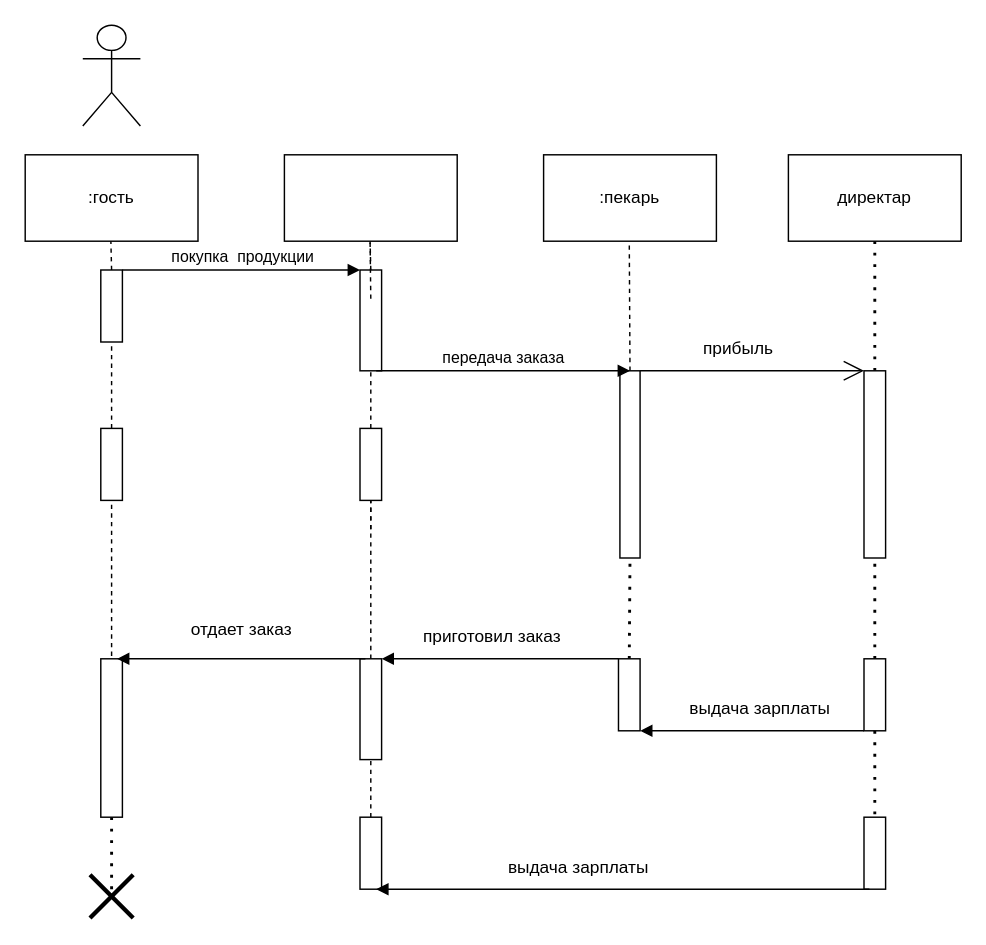
This 986x945 diagram has some shape labels left out. The centre of each missing label's shape, as x and y in pixels:
":продавец" belongs at point 370,197.
"клиент" belongs at point 110,75.
